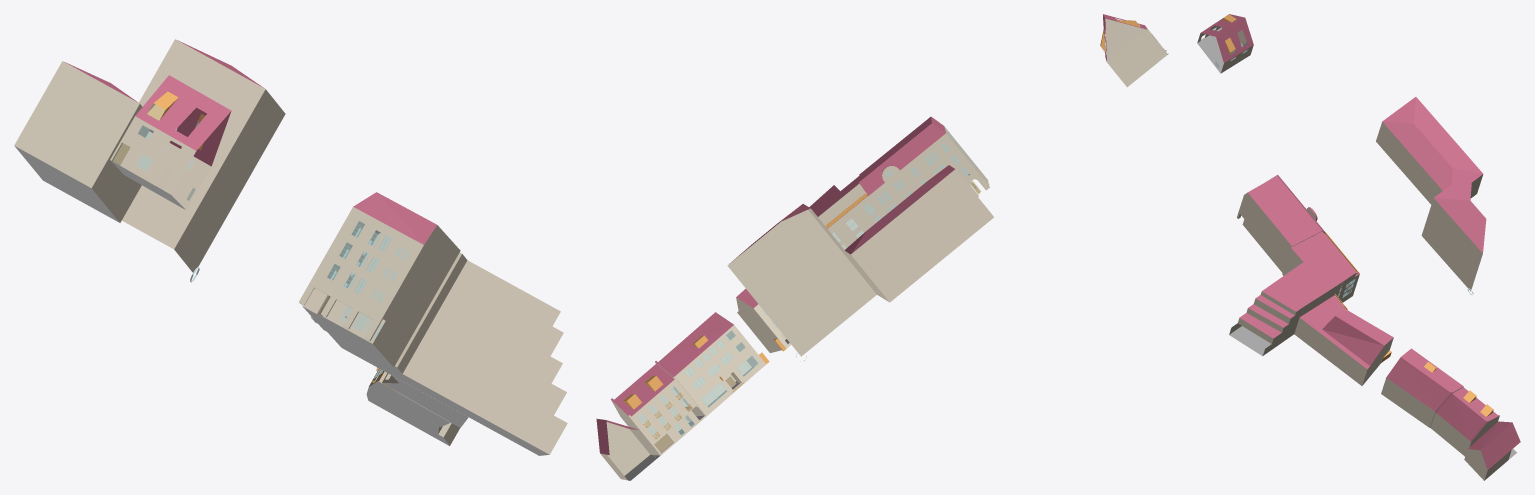
3 views of the same model, side by side, from view 1: azimuth 30°, elevation 25°; view 2: azimuth 150°, elevation 25°; view 3: azimuth 270°, elevation 25° (orthographic). The views are drawn at different scales.
Visible parts, largest first — view 1: mesh; view 2: mesh; view 3: mesh.
Part boxes in pixels (x1=…): mesh: x1=14, y1=39, x2=567, y2=455; mesh: x1=596, y1=14, x2=1168, y2=480; mesh: x1=1197, y1=14, x2=1520, y2=480.
Bounding box in the file's own units: 86.91 × 87.35 × 76.12.
